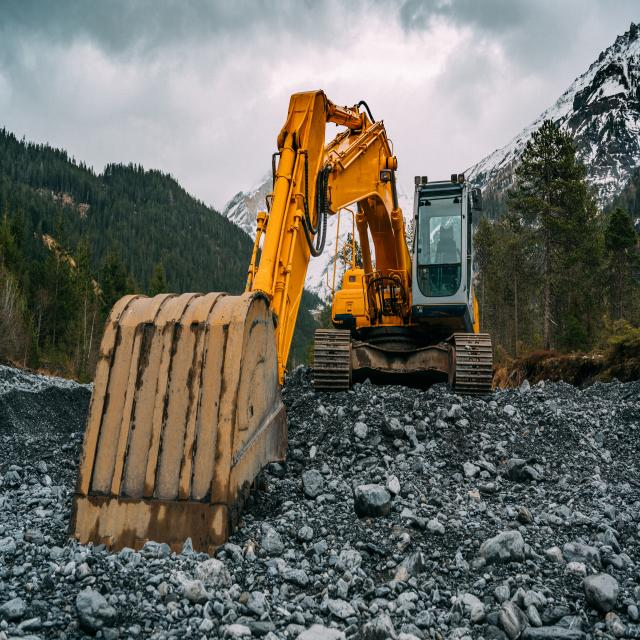excavator: (68, 90, 495, 549)
